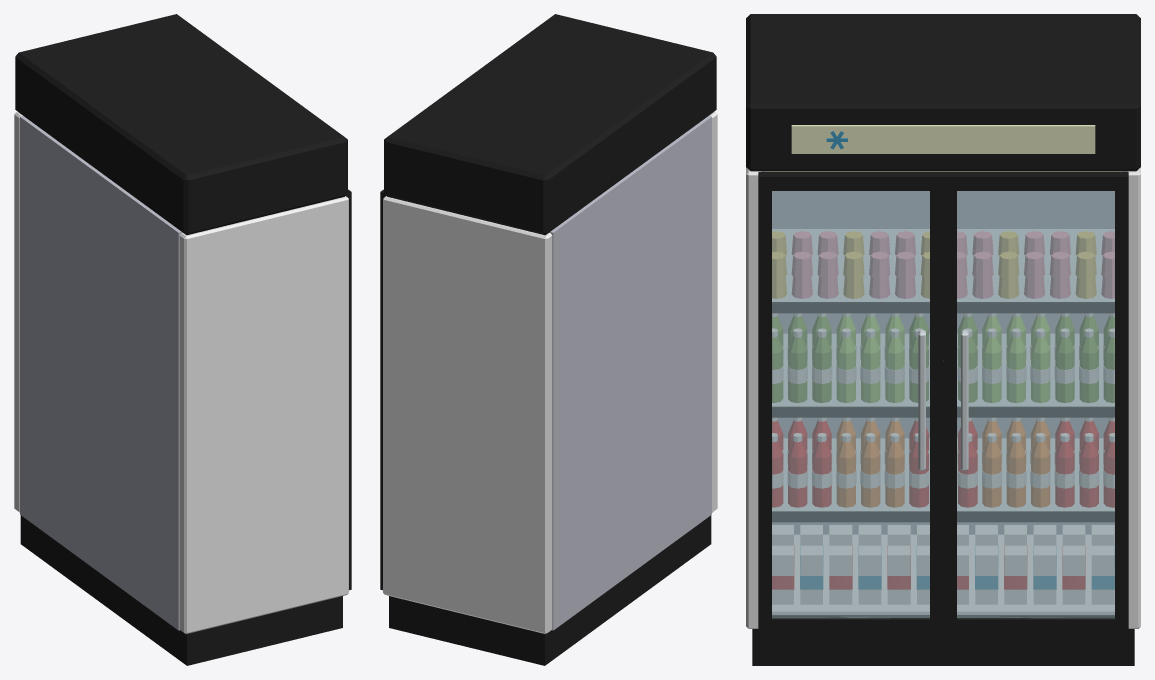
Rendered from SM_Build_SM_Store_Fridge_Upright_01.fbx.
3 renders of one model, left to right at view 1: azimuth 30°, elevation 25°; view 2: azimuth 150°, elevation 25°; view 3: azimuth 270°, elevation 25°, orthographic. The views are drawn at different scales.
Parts seen in each view (by area): view 1: SM_Store_Fridge_Upright_01; view 2: SM_Store_Fridge_Upright_01; view 3: SM_Store_Fridge_Upright_01.
Boxes of the visible parts, box(x1,y1,x2,y2) form: SM_Store_Fridge_Upright_01: box(14, 14, 351, 665); SM_Store_Fridge_Upright_01: box(380, 14, 717, 665); SM_Store_Fridge_Upright_01: box(746, 14, 1140, 665).
Bounding box in the file's own units: 0.7925 × 2.05 × 1.3.
